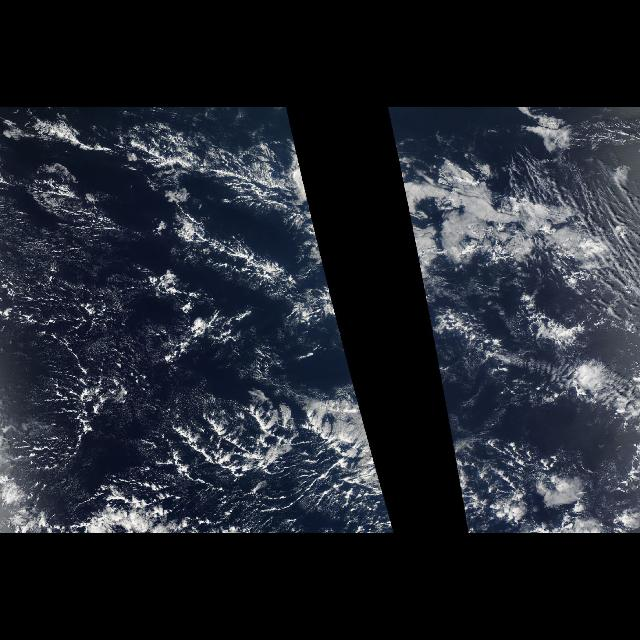Fish: (392, 130, 614, 264), (177, 130, 326, 264)
Sugar: (0, 180, 150, 460), (145, 458, 351, 522)
